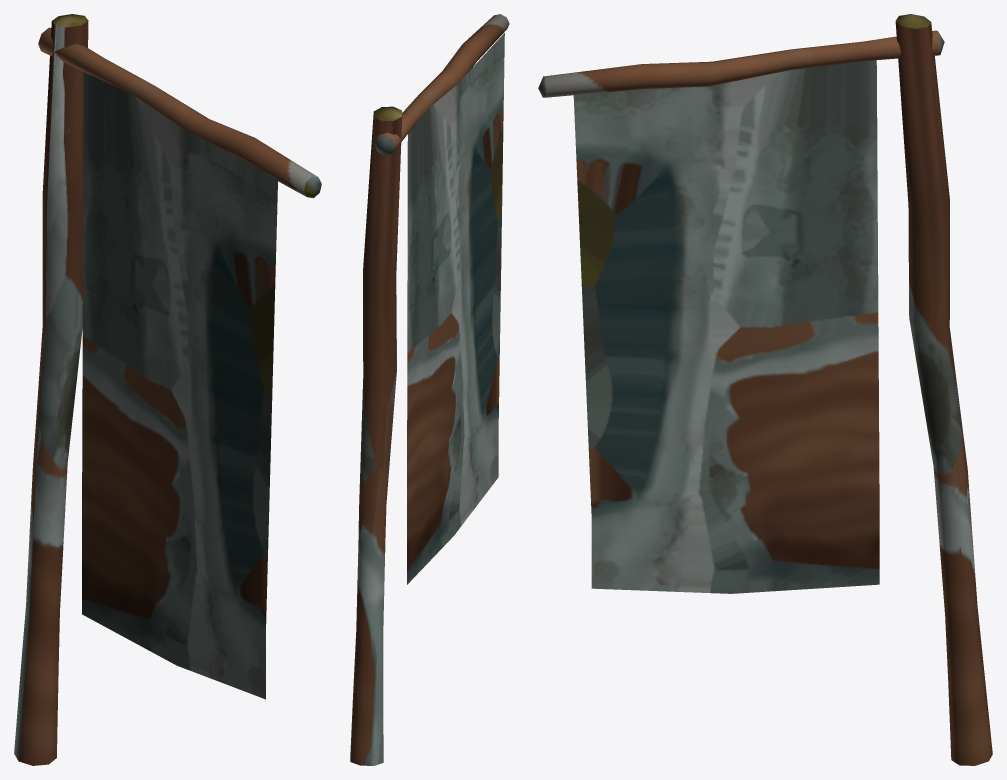
The model's file is TentFlag(1).fbx.
3 views of the same model, side by side, from view 1: azimuth 30°, elevation 25°; view 2: azimuth 150°, elevation 25°; view 3: azimuth 270°, elevation 25° (orthographic). The views are drawn at different scales.
Parts seen in each view (by area): view 1: Flag.002, Flag; view 2: Flag.002, Flag; view 3: Flag.002, Flag.
Part boxes in pixels (x1,y1,x2,y2): Flag.002: [82, 72, 277, 699]; Flag: [14, 14, 321, 765]; Flag.002: [407, 33, 504, 584]; Flag: [350, 14, 509, 765]; Flag.002: [573, 60, 879, 593]; Flag: [538, 14, 992, 765].
Bounding box in the file's own units: 45.15 × 380 × 210.
